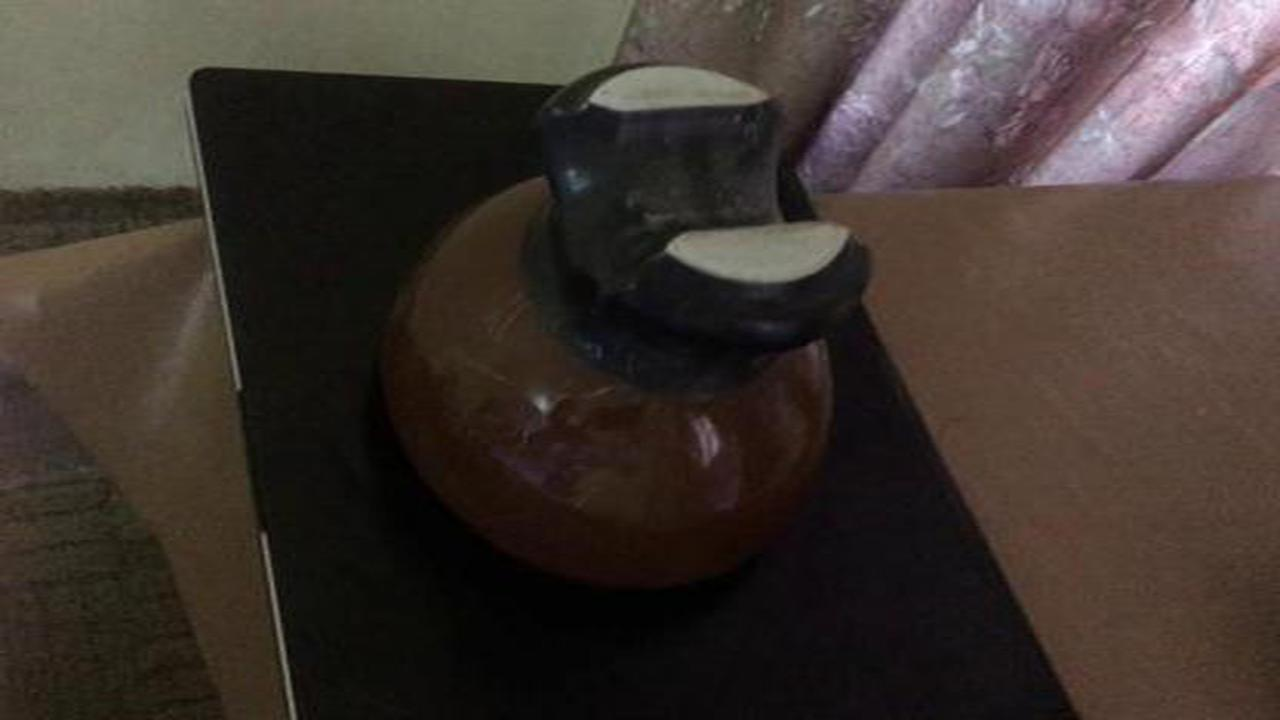insulator_pin: (364, 49, 887, 610)
